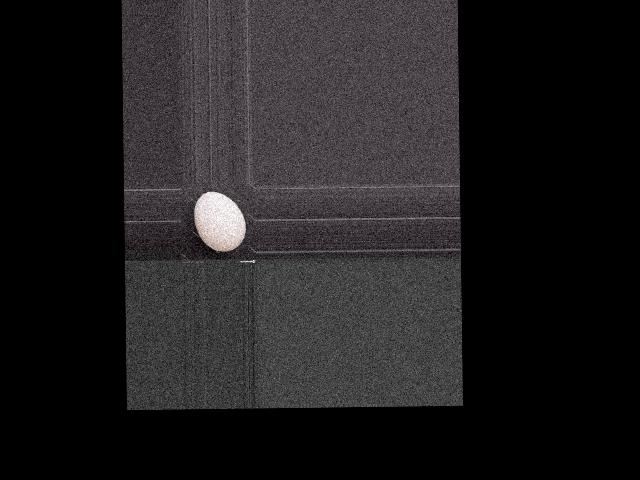egg: (193, 191, 245, 252)
